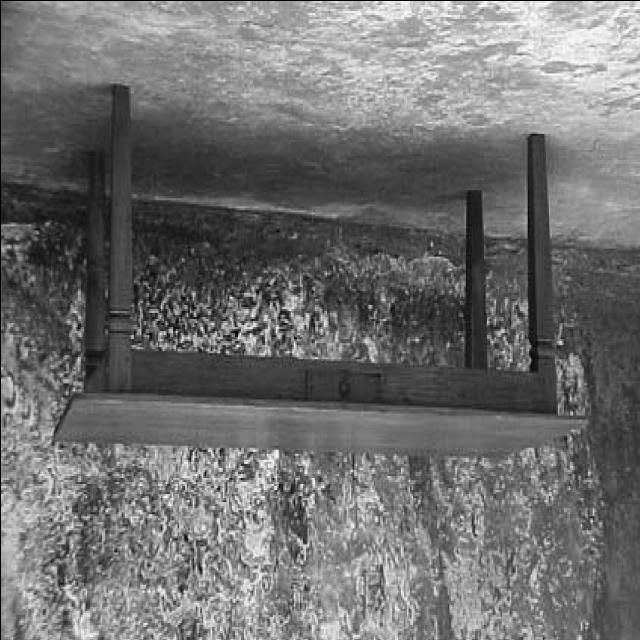table: (49, 82, 588, 454)
